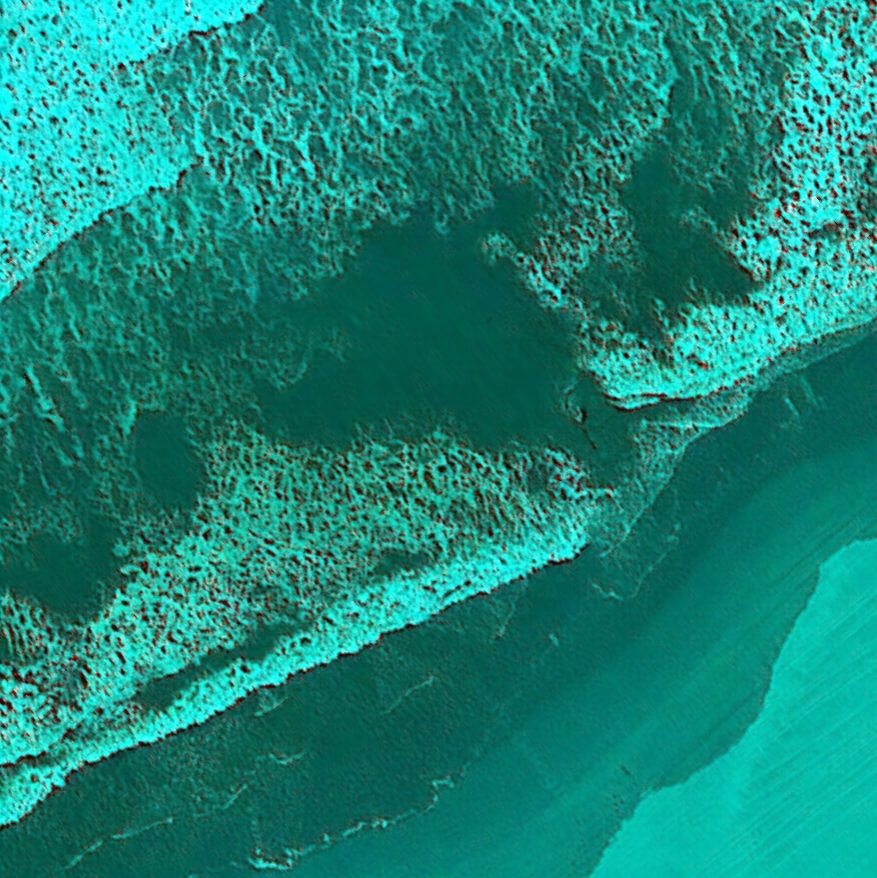rip_current: (263, 231, 700, 554)
